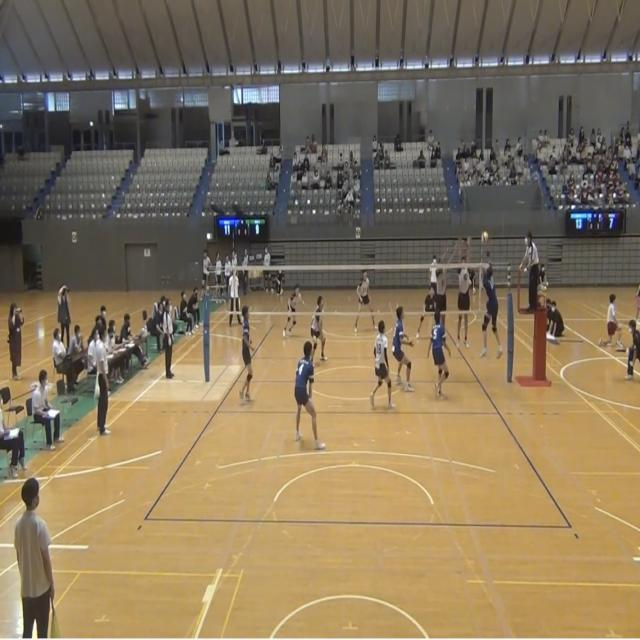spike: (474, 225, 507, 366)
